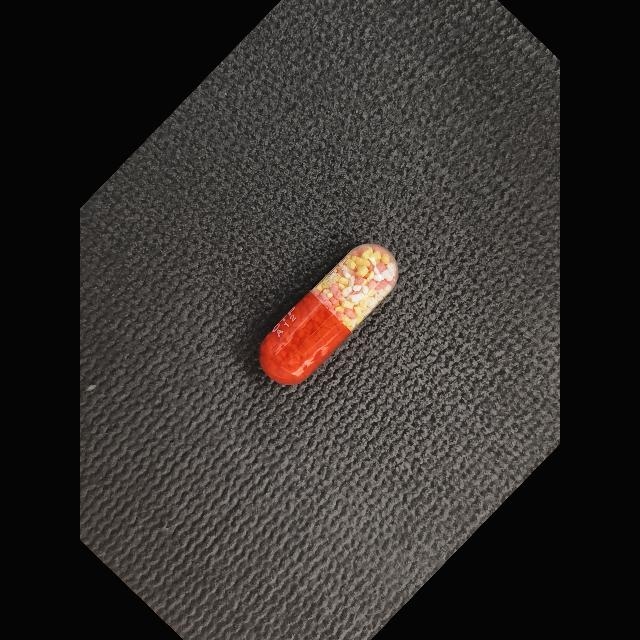Intact Capsule: (259, 244, 399, 385)
